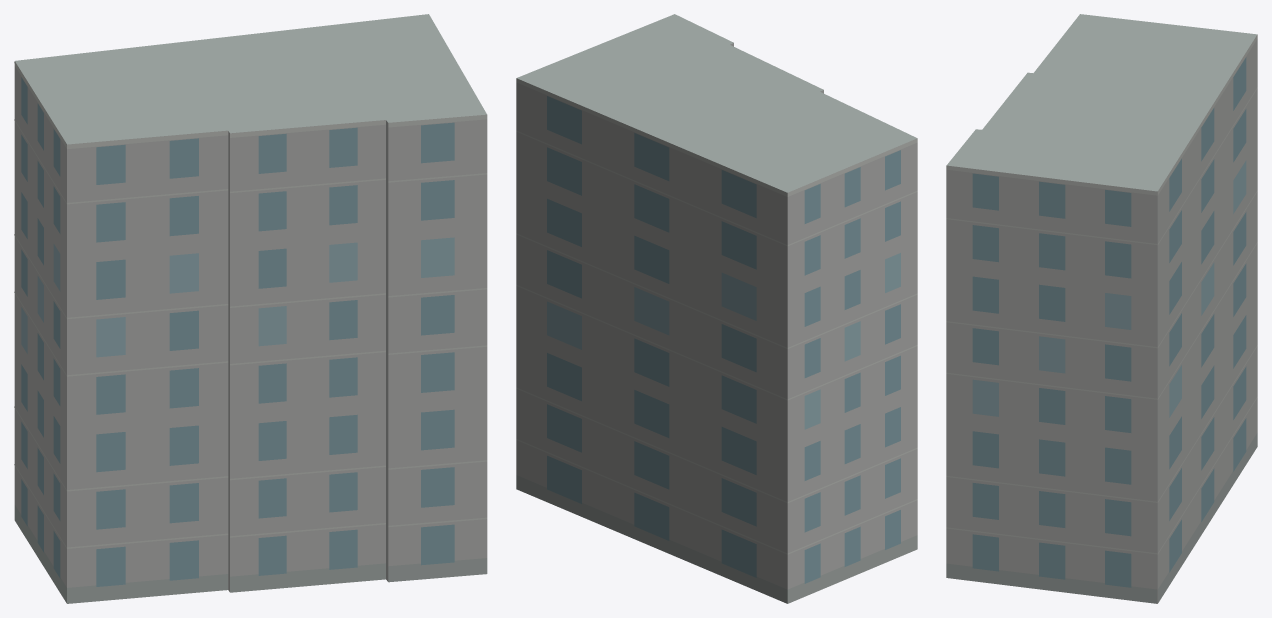
Rendered from survey-upis-32477269.glb.
The picture shows the model from 3 angles, left to right: view 1: azimuth 30°, elevation 25°; view 2: azimuth 150°, elevation 25°; view 3: azimuth 270°, elevation 25°; orthographic projection. The views are drawn at different scales.
Parts seen in each view (by area): view 1: survey-upis-32477269.tmp; view 2: survey-upis-32477269.tmp; view 3: survey-upis-32477269.tmp.
Part boxes in pixels (box(x1,y1,x2,y2)): survey-upis-32477269.tmp: box(14, 14, 487, 603); survey-upis-32477269.tmp: box(516, 14, 917, 603); survey-upis-32477269.tmp: box(946, 14, 1257, 603).
Bounding box in the file's own units: 22.06 × 23.88 × 16.35.
